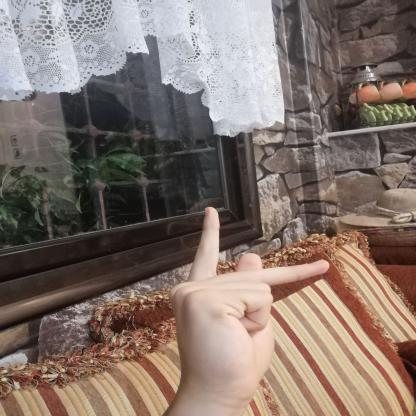DHAA: (152, 197, 340, 406)
